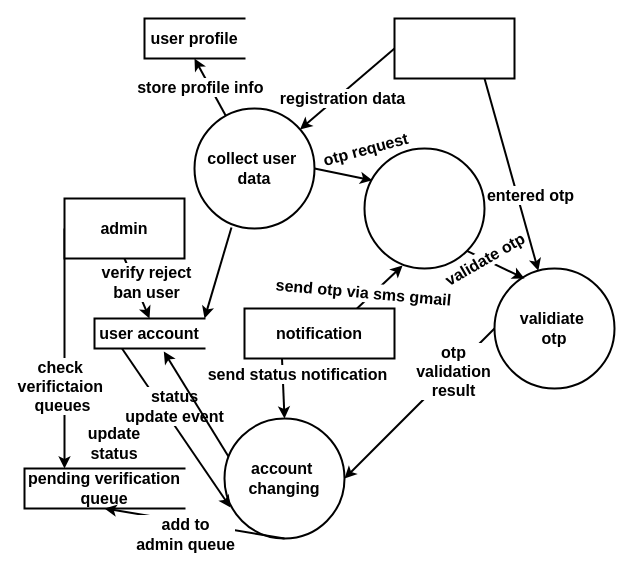
The diagram is 633 pixels wide and 571 high, and some of its shapes have lost their labels. Each missing label, with the box of its shape:
create and generate otp: (363, 147, 485, 269)
unverified user: (393, 17, 515, 79)
